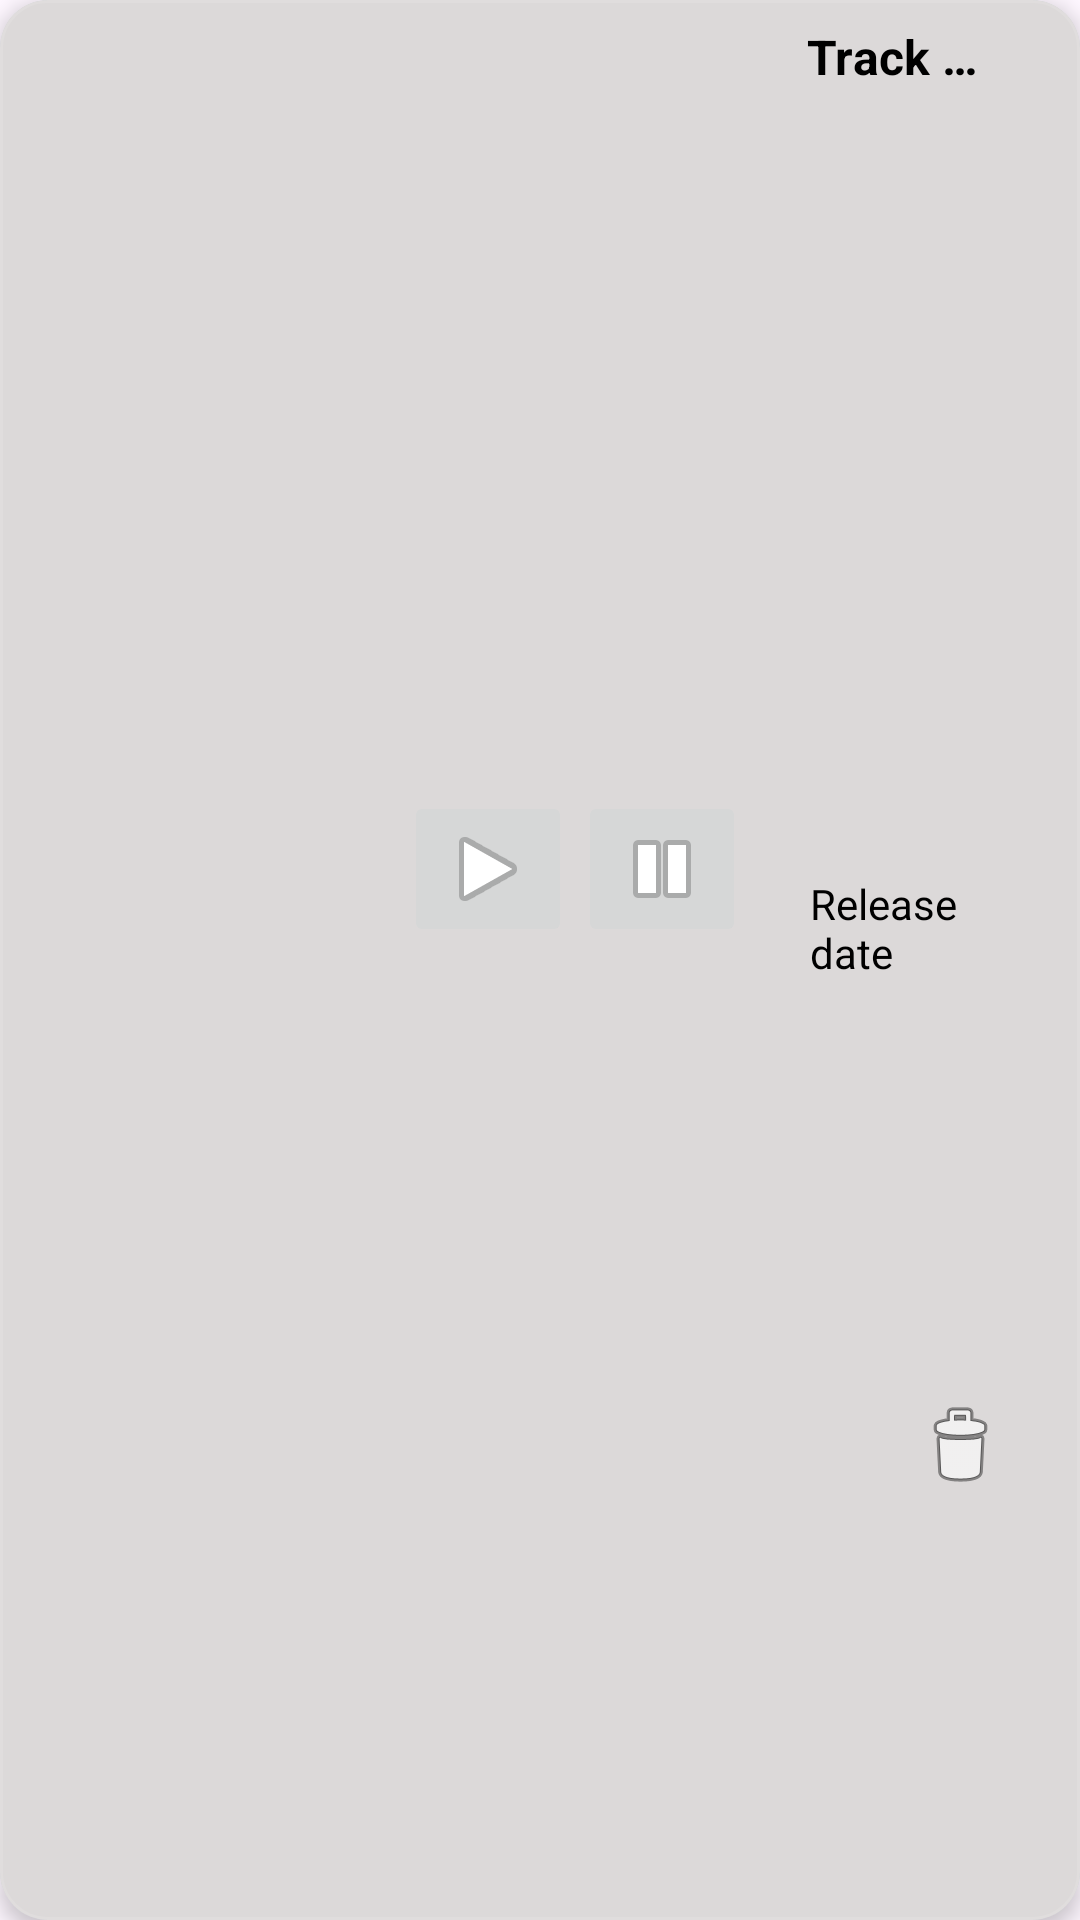

Named icons in this screenshot (1080x1920) and their centers, (x,y):
delete: (960,1444)
pause: (662,869)
play: (488,869)
